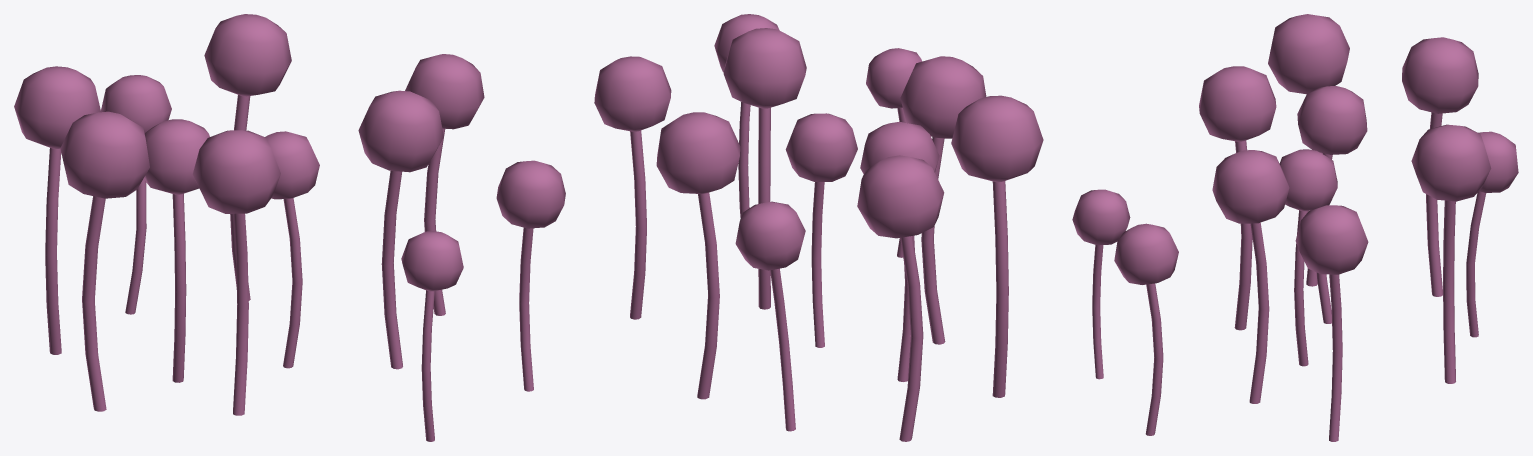
The model's file is Sporeflower_Cluster1.fbx.
3 renders of one model, left to right at view 1: azimuth 30°, elevation 25°; view 2: azimuth 150°, elevation 25°; view 3: azimuth 270°, elevation 25°, orthographic. The views are drawn at different scales.
Parts seen in each view (by area): view 1: SporeFlowerCluster_1; view 2: SporeFlowerCluster_1; view 3: SporeFlowerCluster_1.
Part boxes in pixels (x1,y1,x2,y2): SporeFlowerCluster_1: [14, 14, 565, 441]; SporeFlowerCluster_1: [594, 14, 1043, 441]; SporeFlowerCluster_1: [1072, 14, 1518, 441].
Size of the model in its own units: 250 by 164 by 249.
